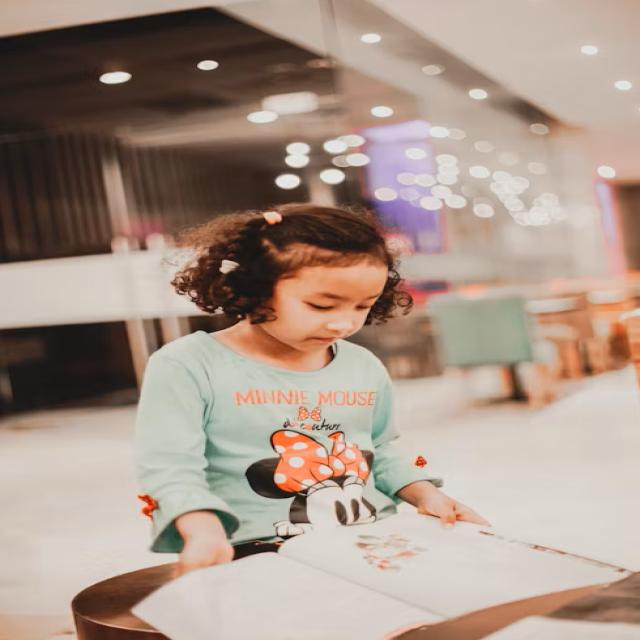Edited images: (83, 181, 509, 602)
